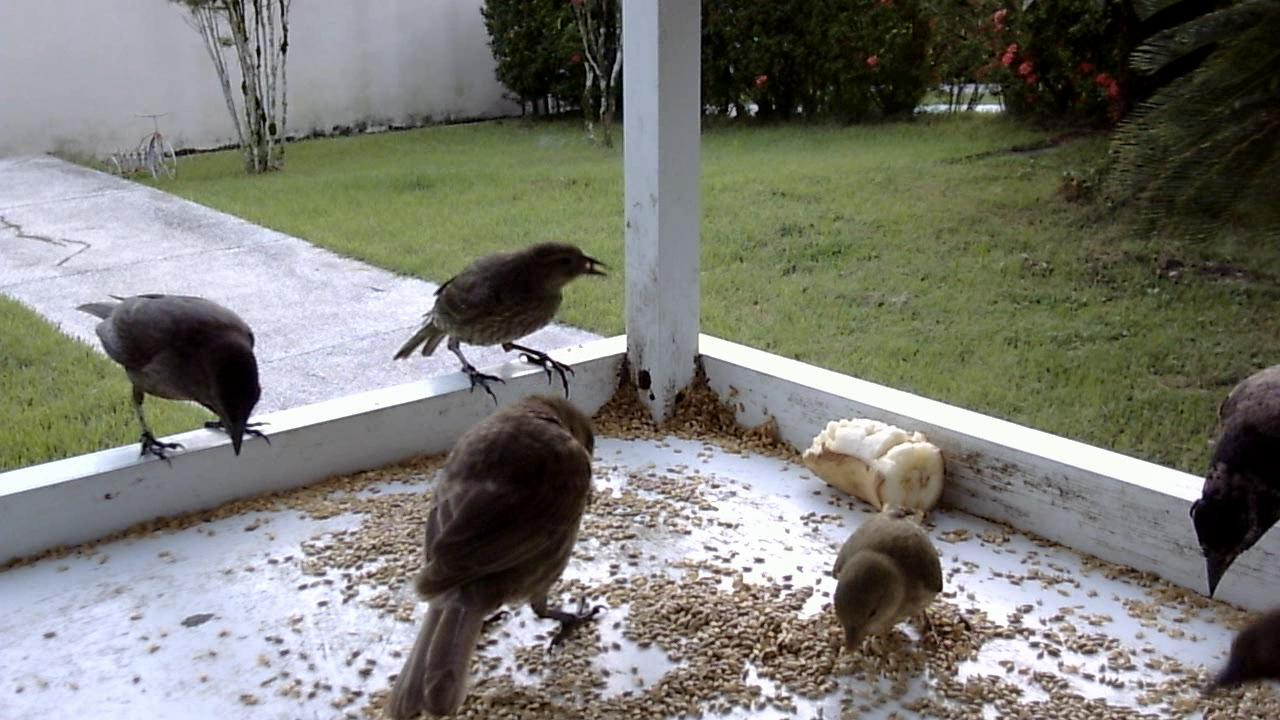canario_do_amazonas: (818, 504, 952, 672)
chupim: (375, 373, 613, 720), (390, 236, 614, 422), (78, 285, 277, 478), (1174, 346, 1276, 611)
